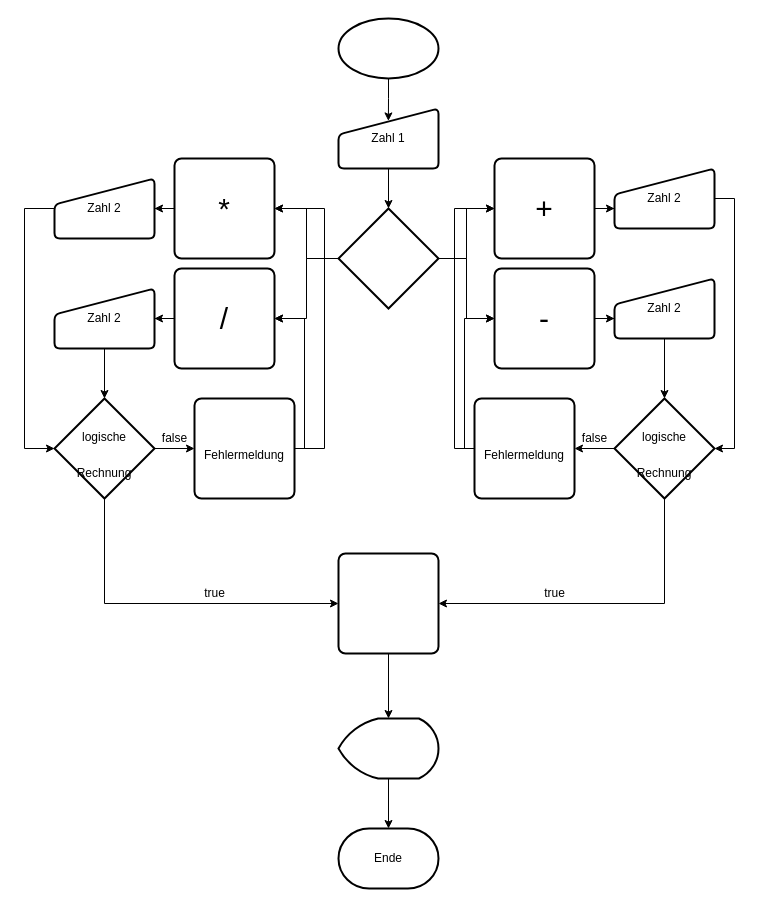
This 760x906 diagram has some shape labels left out. Each missing label, with the box of its shape:
Ergebnis: (337, 717, 439, 779)
Rechnen: (337, 552, 439, 654)
Start: (337, 17, 439, 79)
Welchen Operator: (337, 207, 439, 309)
